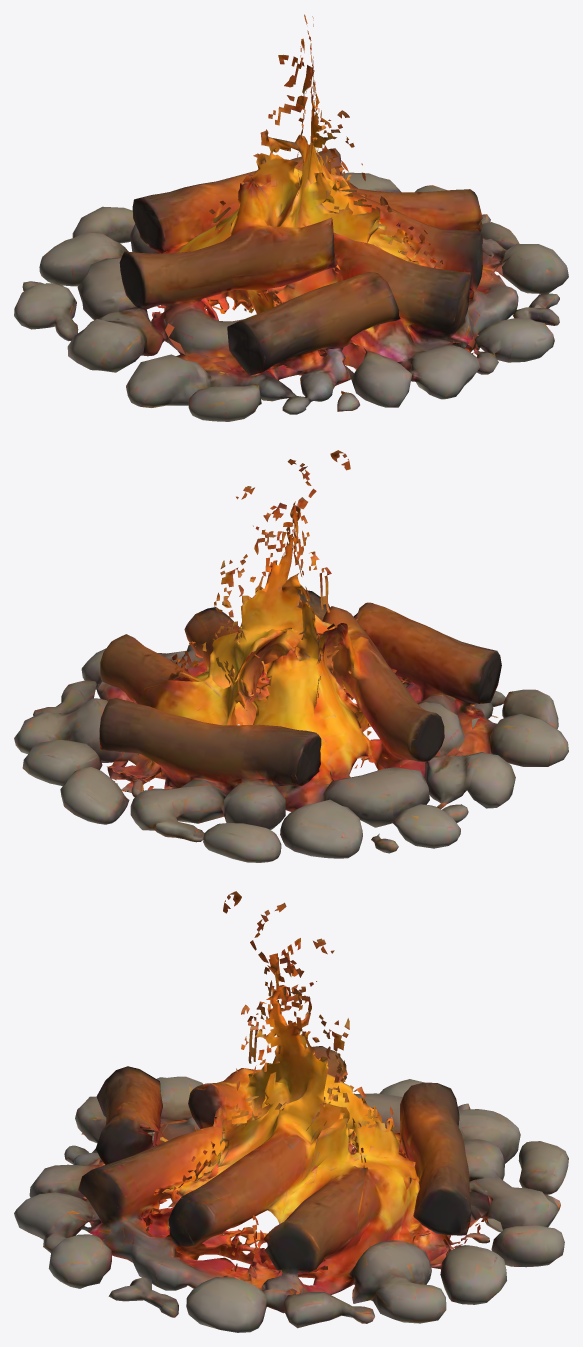
Rendered from campfire.glb.
3 renders of one model, top to bottom at view 1: azimuth 30°, elevation 25°; view 2: azimuth 150°, elevation 25°; view 3: azimuth 270°, elevation 25°, orthographic. The views are drawn at different scales.
Bounding box in the file's own units: 1.97 × 1.23 × 1.94.
Materials: 1 (1 with a texture image).
